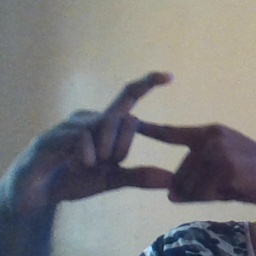E: (98, 66, 199, 200)
